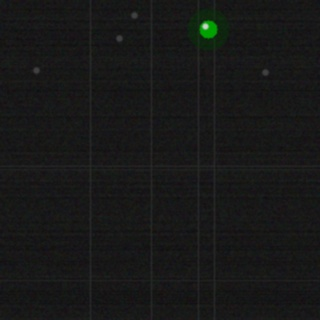green_normal: (197, 18, 219, 40)
